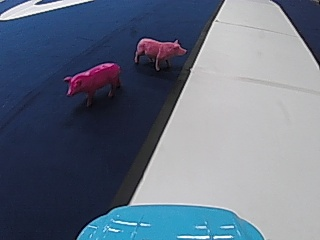pig: (61, 58, 121, 106), (132, 34, 188, 70)
